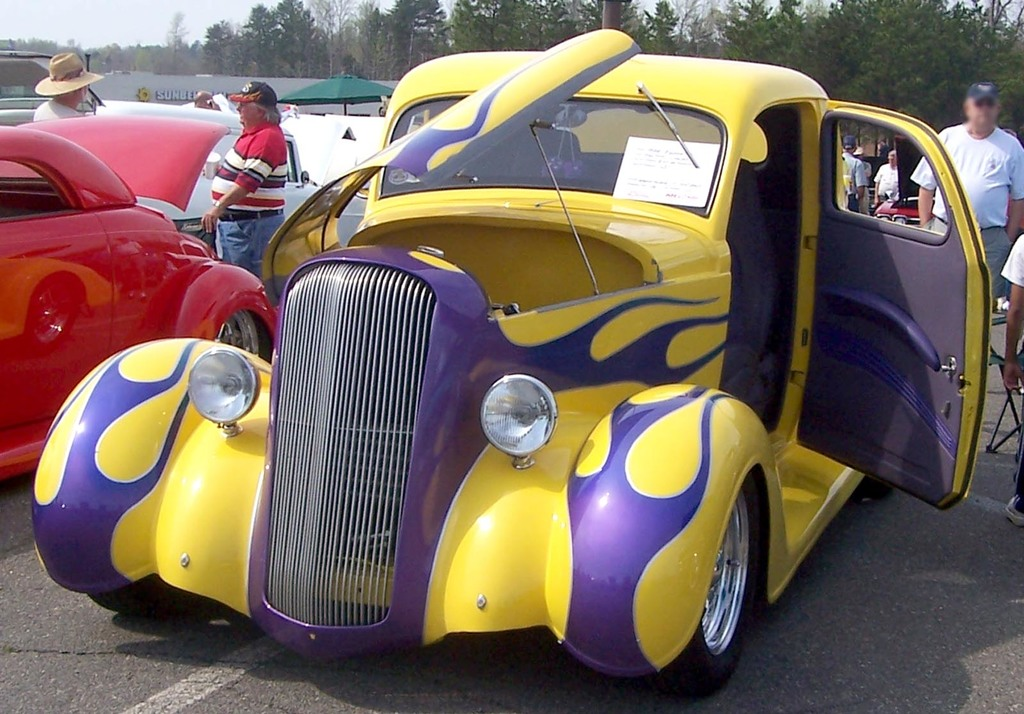mobil: (59, 119, 897, 656)
